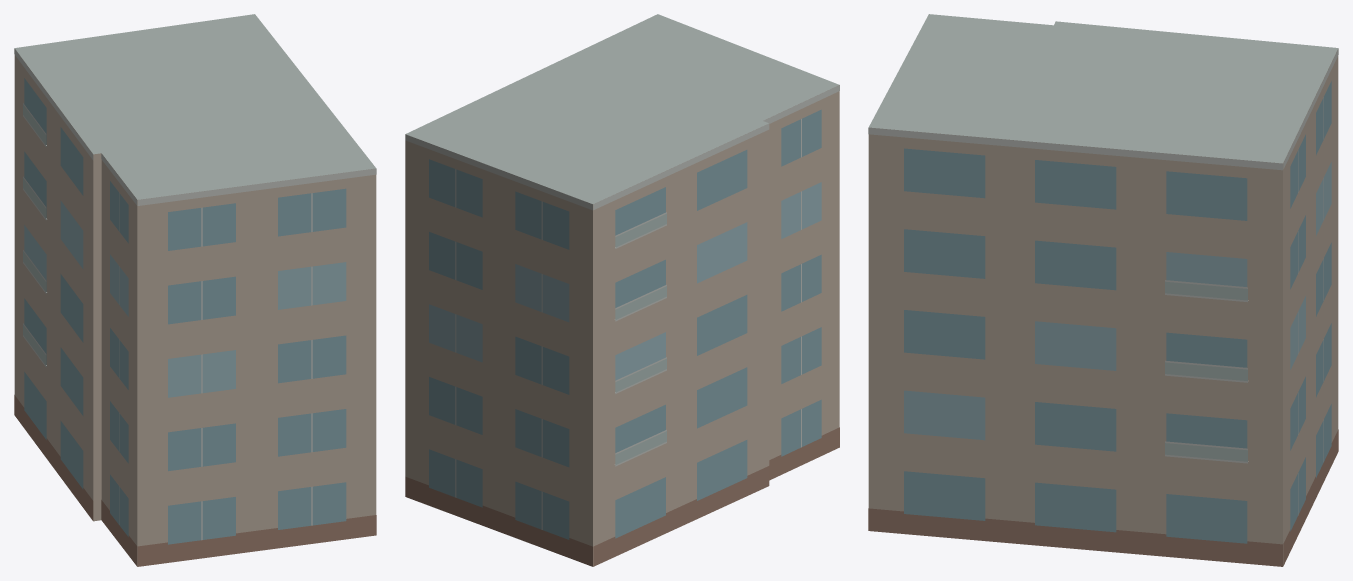
The model's file is survey-upis-33014748.glb.
The picture shows the model from 3 angles, left to right: view 1: azimuth 30°, elevation 25°; view 2: azimuth 150°, elevation 25°; view 3: azimuth 270°, elevation 25°; orthographic projection. The views are drawn at different scales.
Parts seen in each view (by area): view 1: survey-upis-33014748.tmp; view 2: survey-upis-33014748.tmp; view 3: survey-upis-33014748.tmp.
Part boxes in pixels (x1,y1,x2,y2): survey-upis-33014748.tmp: [14, 14, 376, 566]; survey-upis-33014748.tmp: [405, 14, 839, 566]; survey-upis-33014748.tmp: [868, 14, 1338, 566].
Size of the model in its own units: 11.45 by 14.4 by 15.22.
